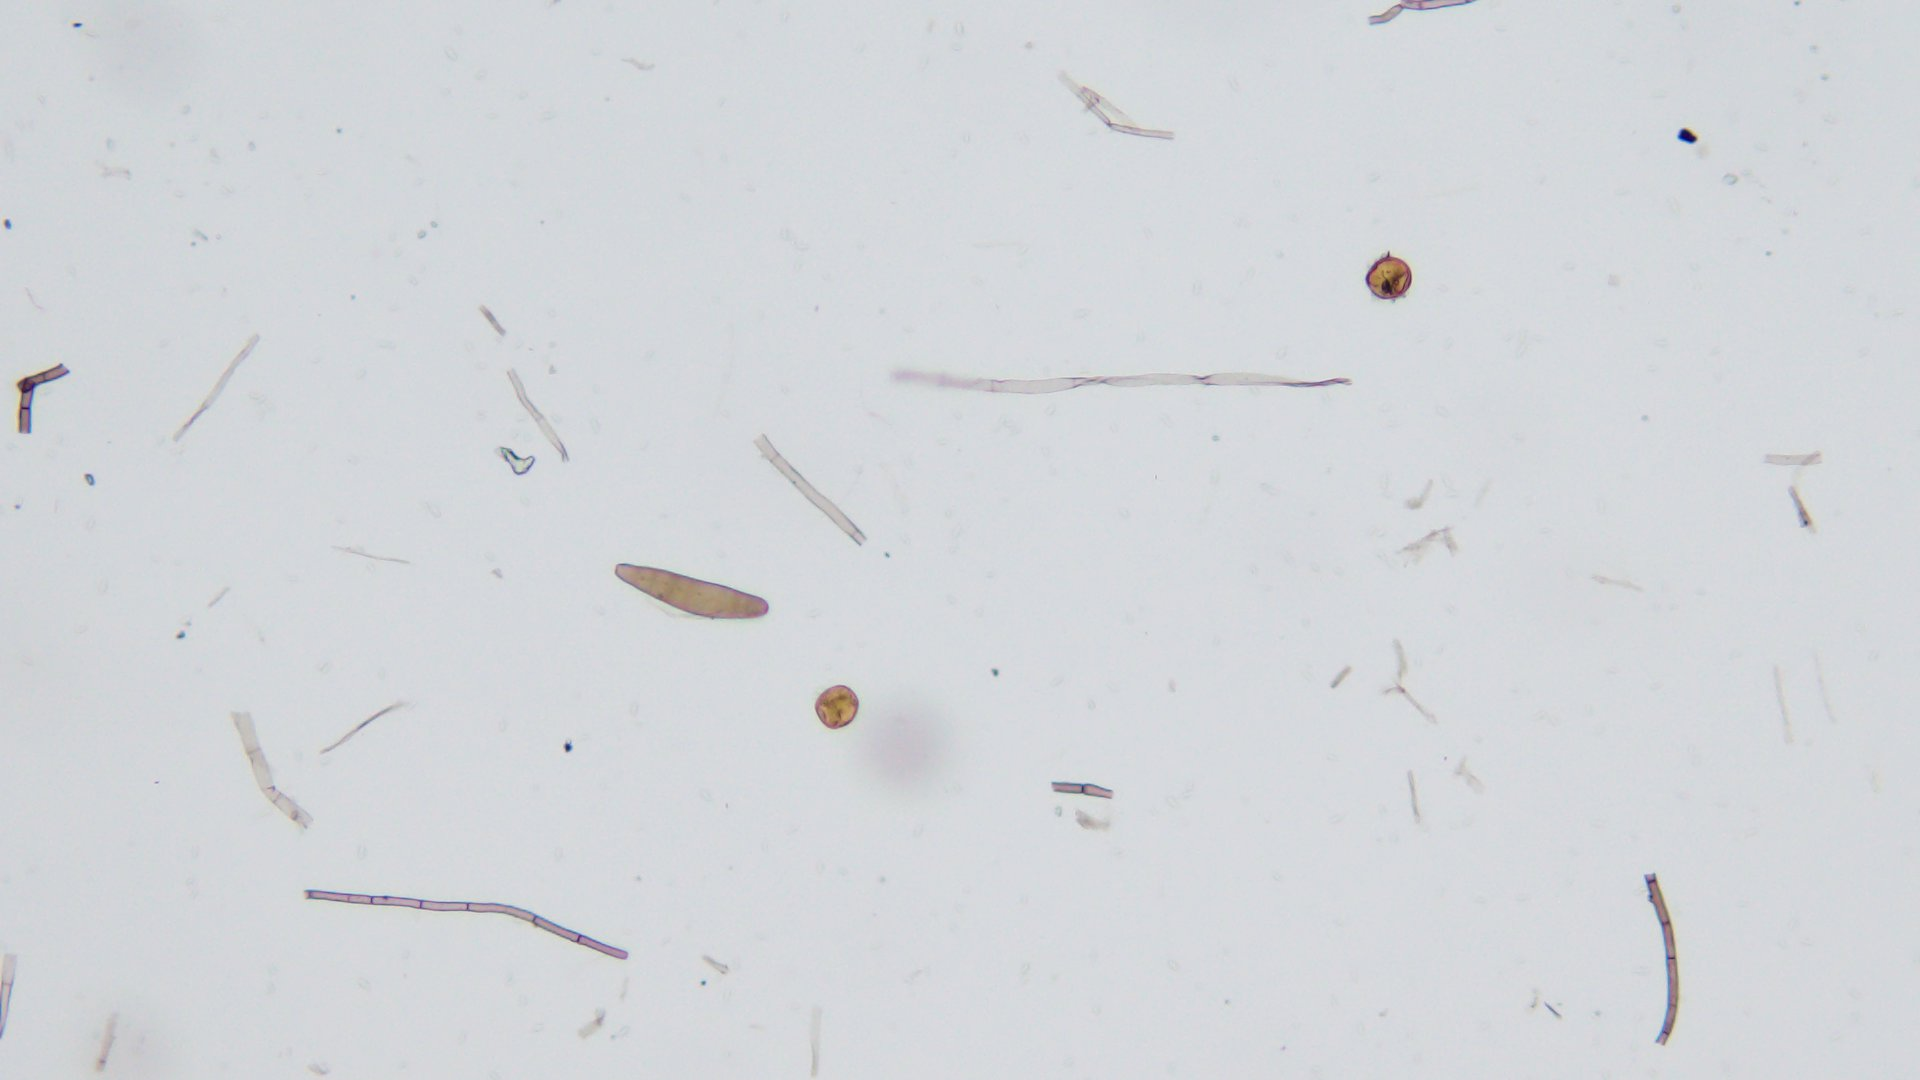dbb_spore: (615, 560, 769, 622)
xb_spore: (1365, 253, 1414, 302), (814, 684, 861, 729)
